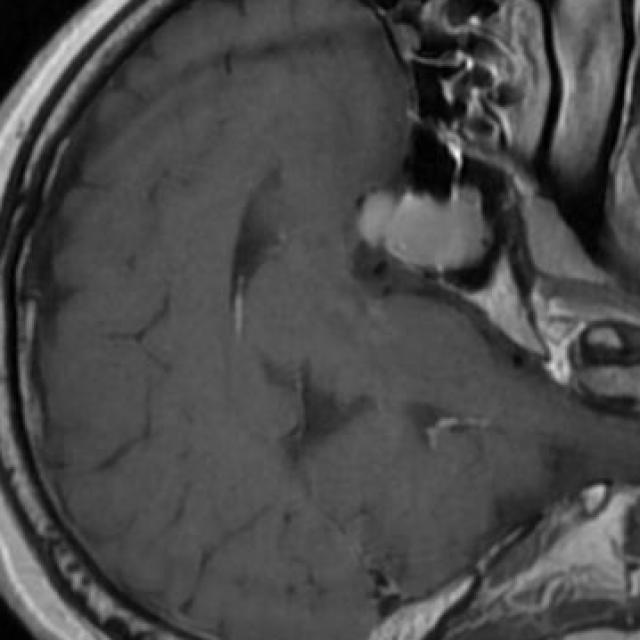pituitary: (358, 187, 485, 269)
